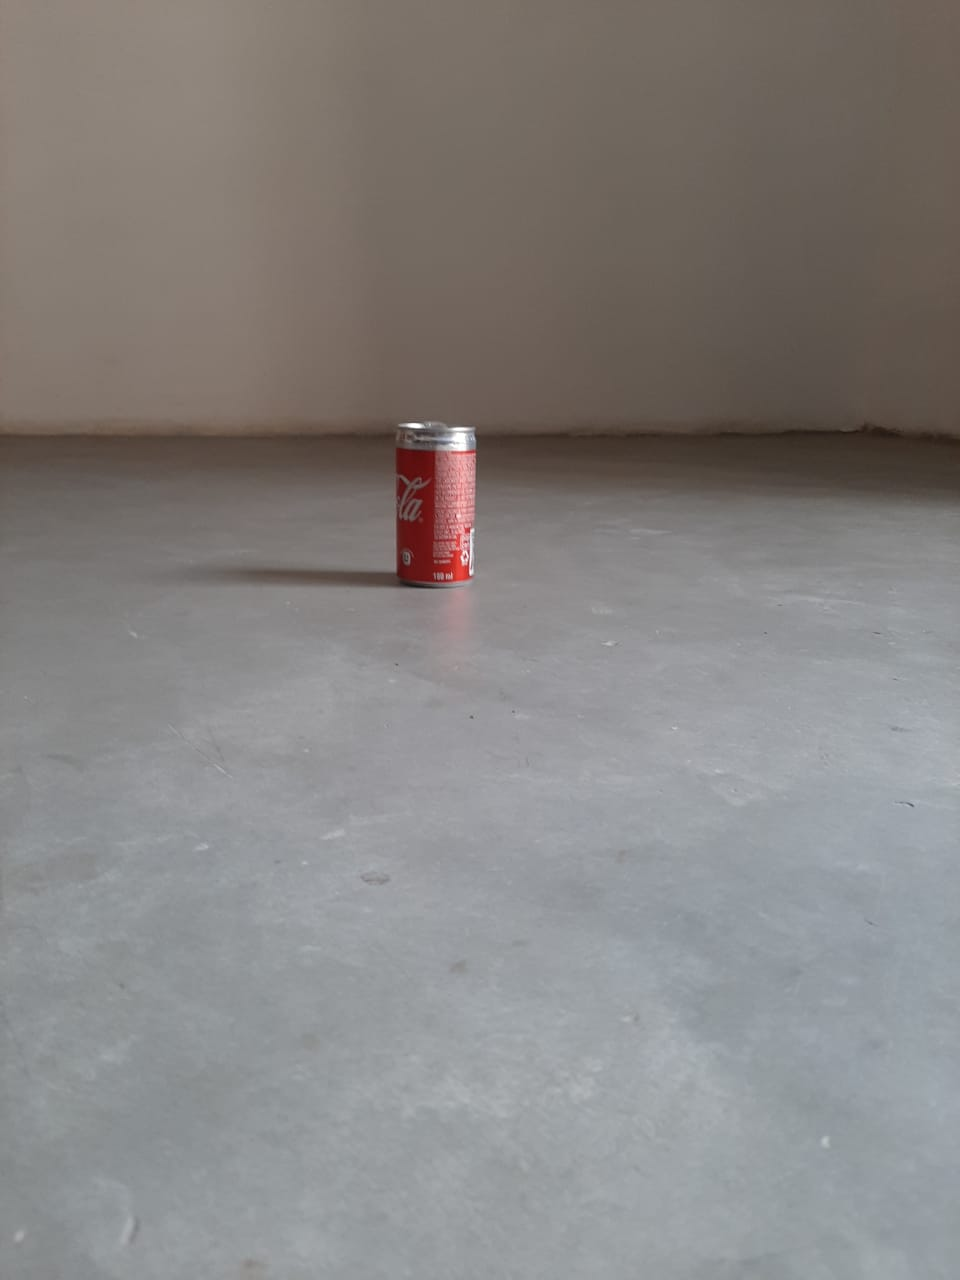Can: (393, 422, 475, 594)
